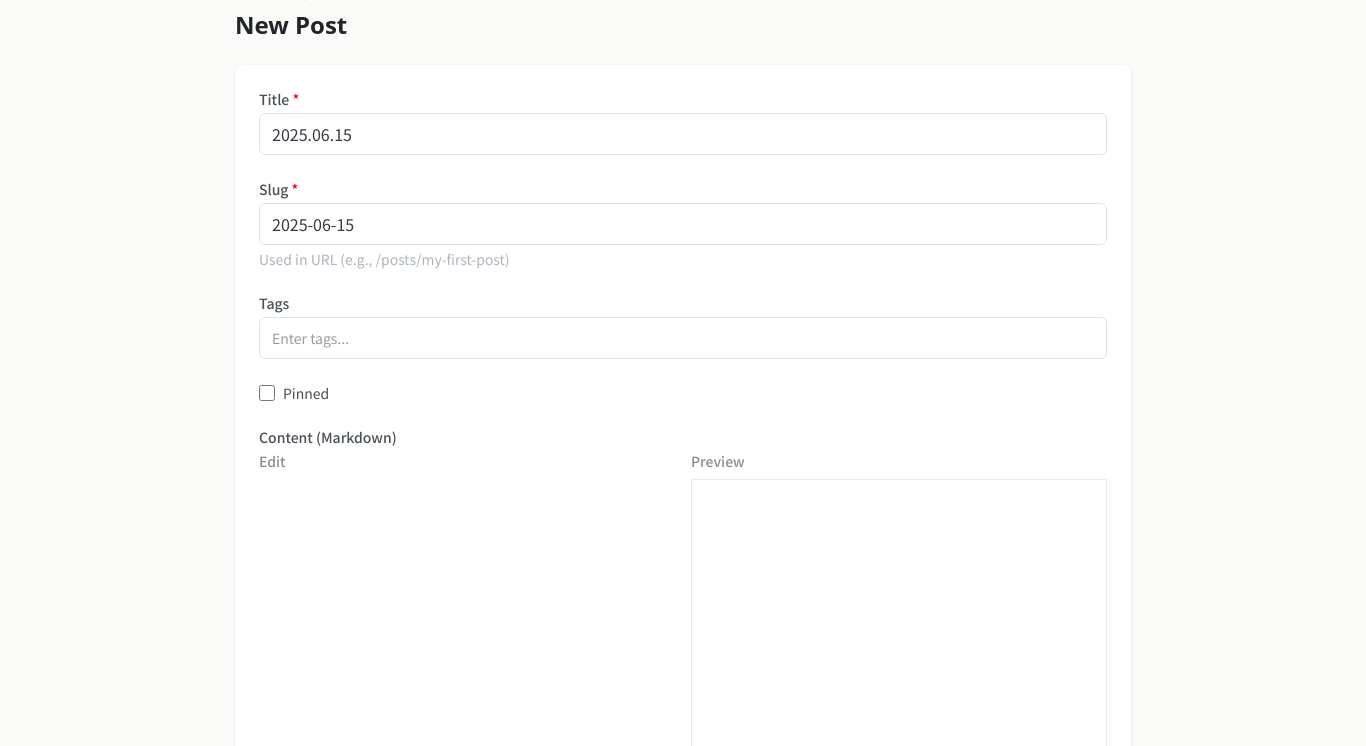
it: PostEdit › Create post › should disable form fields during save
Type "Test" into the field labelled "Title *" at [683, 134], box [259,113,1107,155]
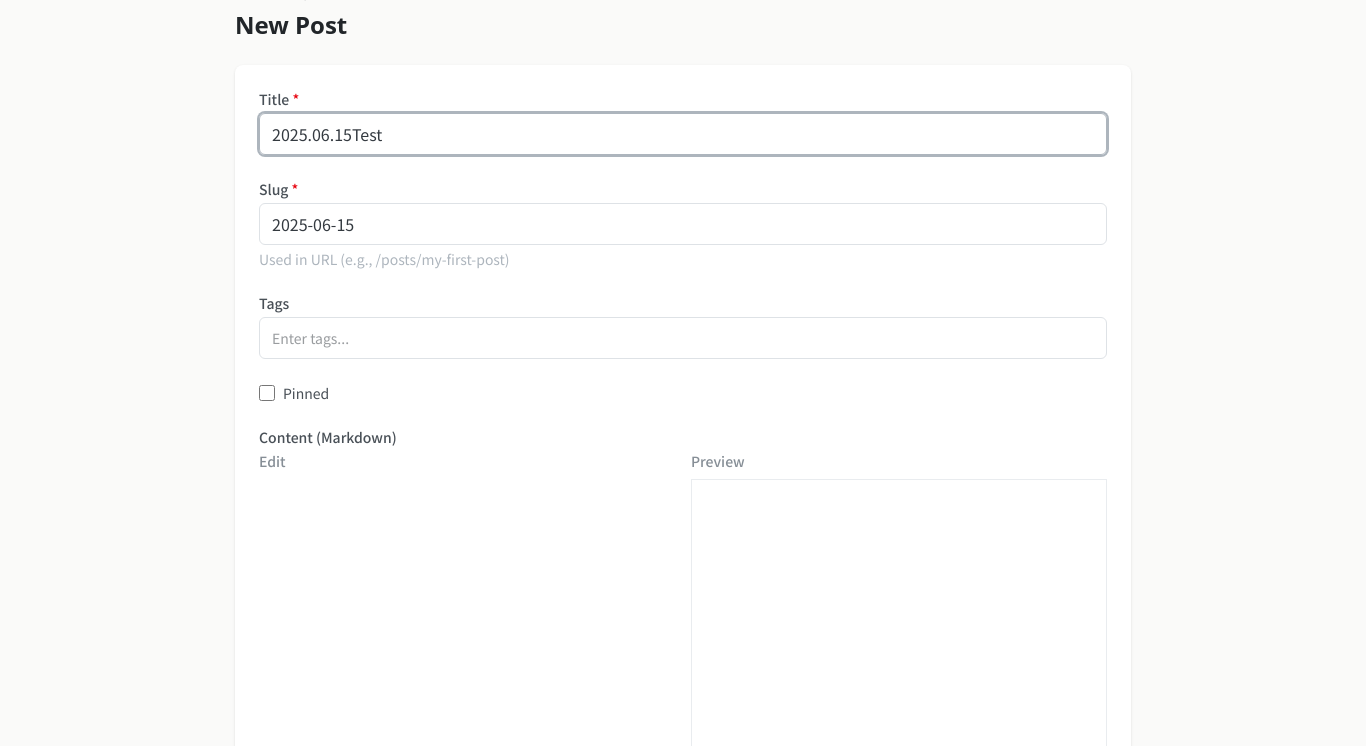
Type "test" into the field labelled "Slug *" at [683, 224], box [259,203,1107,245]
(page scrolled)
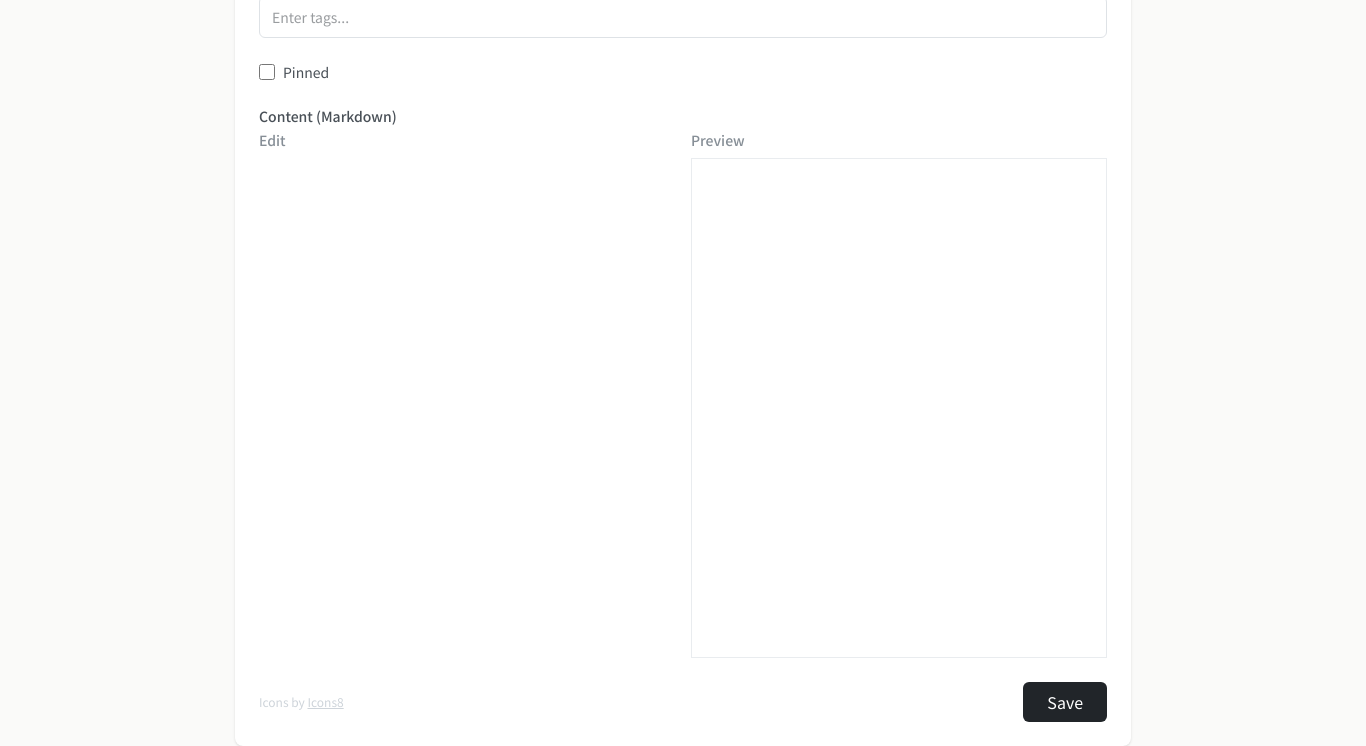
Click the button "Save" at [1065, 702], box [1023,682,1107,722]
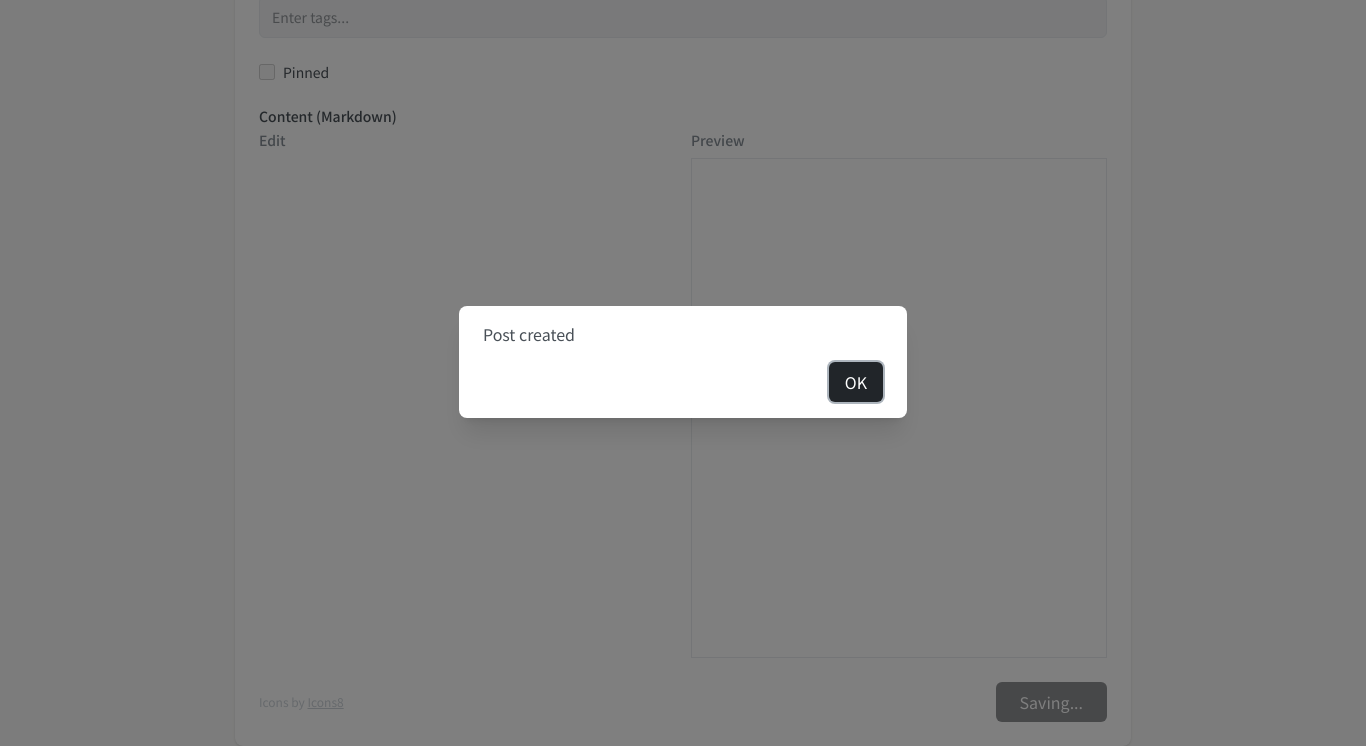
Check: the field named "Tag input" is disabled, box [272,7,1094,27]
Check: the button named "Save" is disabled, box [996,682,1107,722]
Check: the text "Post created" is shown, box [483,322,575,346]
# Click OK to close modal
Click the button "OK" at [856, 382], box [829,362,883,402]
(page scrolled)
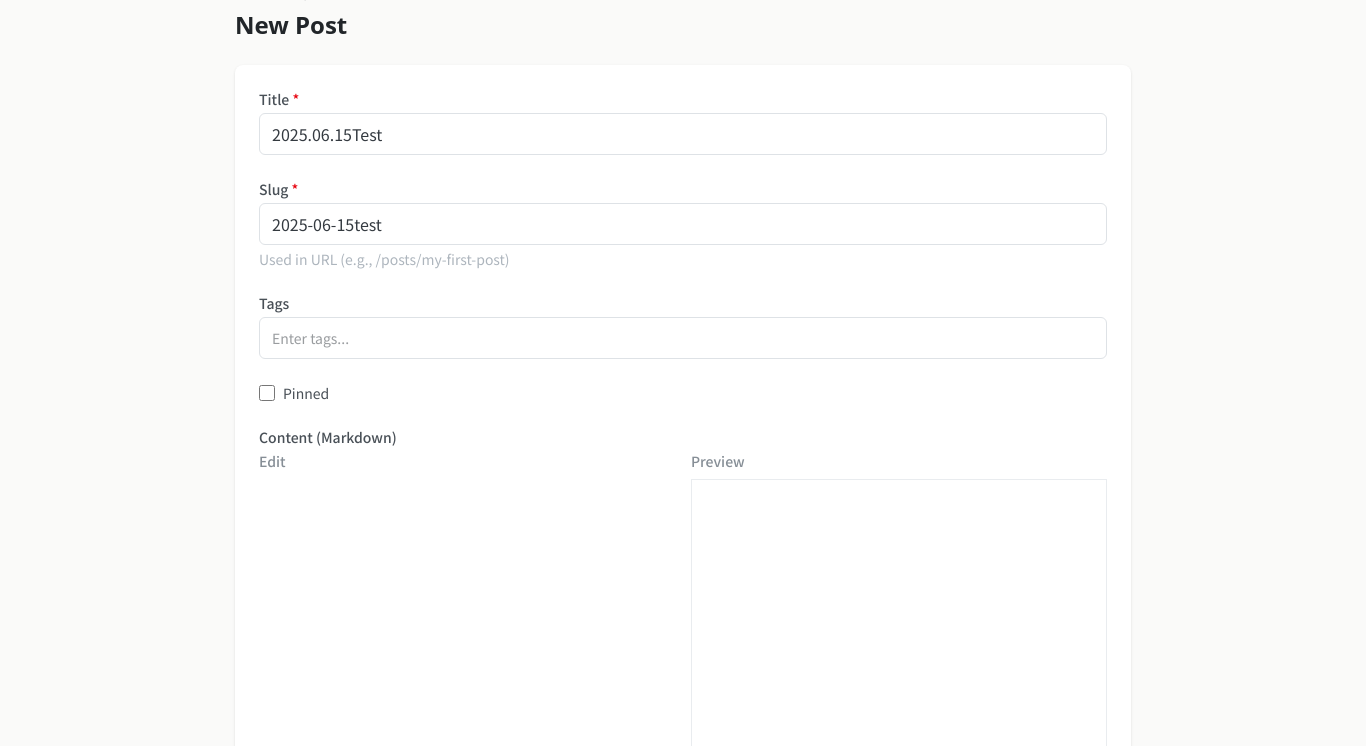
Check: the field labelled "Title *" is enabled, box [259,113,1107,155]
